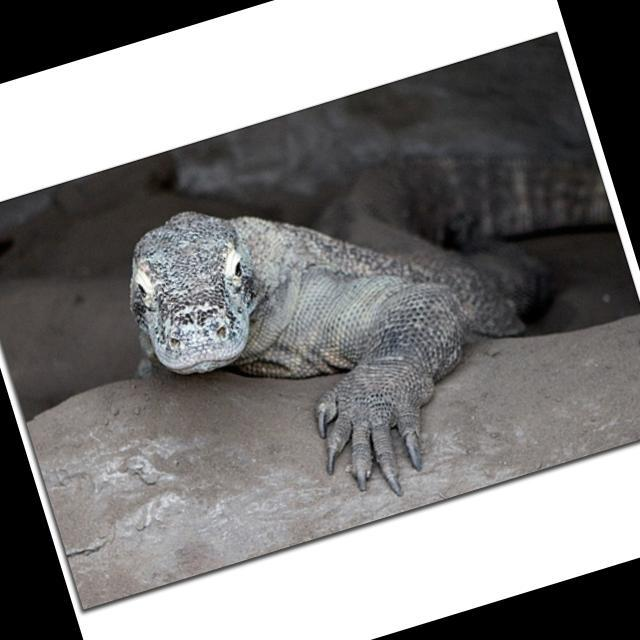KomodoDragon: (106, 88, 640, 560)
